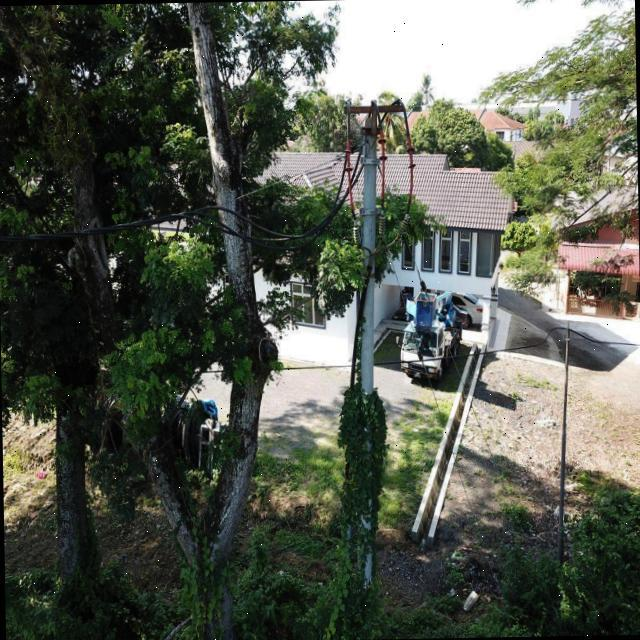critical vegetation: (328, 306, 395, 596)
